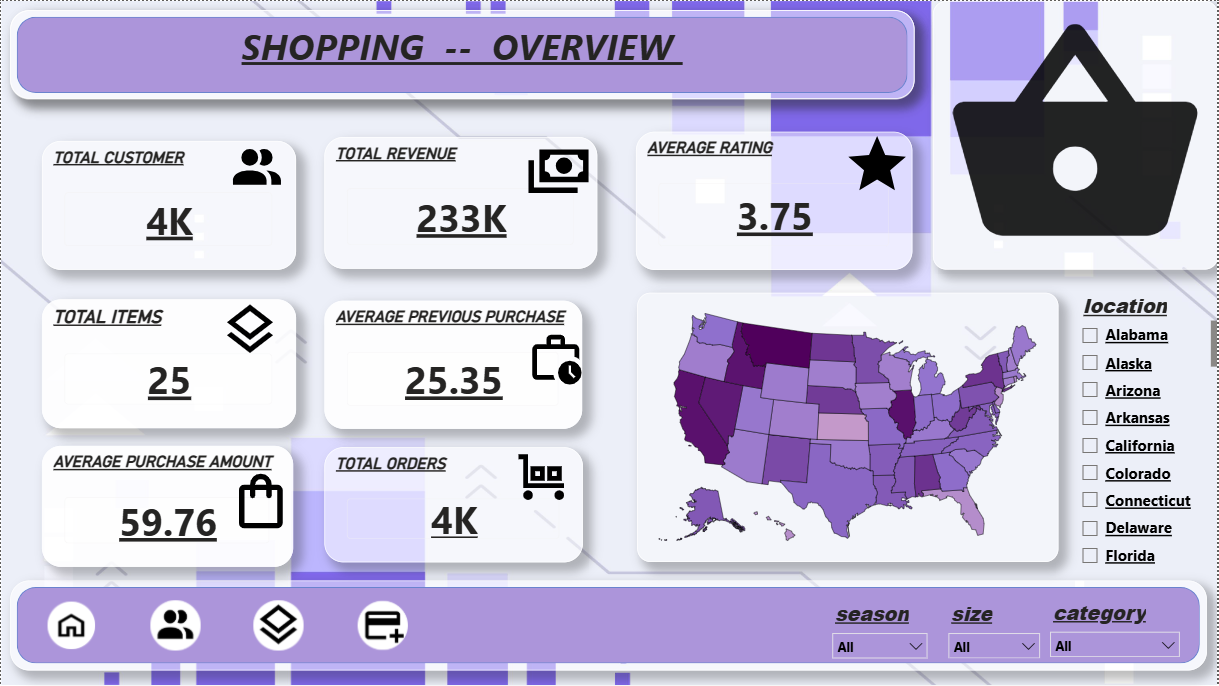

Layout of this report page (visuals, bound fields, positions):
{"tool":"powerbi","page":{"name":"HOME","canvas":[1280,720],"ordinal":0},"visuals":[{"type":"image","box":[0,0,1280,720],"z":0},{"type":"group","id":"g1","title":"Group 1","box":[42.7,146.8,267.1,135.6],"z":0,"group":"g12"},{"type":"group","id":"g2","title":"Group 5","box":[340,470,272.2,121.1],"z":0,"group":"g15"},{"type":"cardVisual","title":"TOTAL REVENUE","fields":{"Data":["Customer.Total Revenue"]},"box":[340,143,287.1,138.6],"z":1000,"group":"g11"},{"type":"image","box":[228.8,146.1,80.3,60.2],"z":1000,"group":"g12"},{"type":"cardVisual","title":"TOTAL ITEMS","fields":{"Data":["Customer.total items"]},"box":[42.9,314.3,267.1,135.7],"z":1000,"group":"g13"},{"type":"image","box":[524.5,469.3,88.8,60.5],"z":1000,"group":"g15"},{"type":"shape","box":[9.6,609.6,1258.9,94.5],"z":1000},{"type":"cardVisual","title":"AVERAGE RATING","fields":{"Data":["Customer.Average Rating"]},"box":[668.6,137,291.2,145.6],"z":2000,"group":"g10"},{"type":"cardVisual","title":"TOTAL CUSTOMER ","fields":{"Data":["Customer.Total customers"]},"box":[42.7,146.8,267.1,135.6],"z":2000,"group":"g1"},{"type":"cardVisual","title":"AVERAGE PURCHASE AMOUNT","fields":{"Data":["Customer.Average putrchase amount"]},"box":[43,468.5,264.6,127.3],"z":2000,"group":"g14"},{"type":"actionButton","title":"home_A","box":[19.5,632.5,108.6,50],"z":2000},{"type":"group","id":"g3","title":"Group 2","box":[42.7,146.1,267.1,136.3],"z":3000},{"type":"cardVisual","title":"AVERAGE PREVIOUS PURCHASE","fields":{"Data":["Customer.Average Previous Purchases"]},"box":[340.3,315.6,271.3,135.1],"z":3000,"group":"g9"},{"type":"cardVisual","title":"TOTAL ORDERS","fields":{"Data":["Customer.Total Transactions"]},"box":[340,470,272.2,121.1],"z":3000,"group":"g2"},{"type":"group","id":"g4","title":"Group 3","box":[668.6,135.7,291.4,147.1],"z":4000},{"type":"group","id":"g5","title":"Group 6","box":[340,469.3,273.3,125.3],"z":5000},{"type":"group","id":"g6","title":"Group 7","box":[42.9,314.3,267.1,135.7],"z":6000},{"type":"group","id":"g7","title":"Group 4","box":[340,143,285.7,138.6],"z":7000,"group":"g16"},{"type":"group","id":"g8","title":"Group 8","box":[43,468.5,265,127.3],"z":7000},{"type":"group","id":"g9","title":"Group 9","box":[340.3,315.6,272.7,135.1],"z":8000},{"type":"shape","box":[10,10,951.4,94.3],"z":9000},{"type":"textbox","box":[10,10,951.4,92.9],"z":10000},{"type":"image","title":"SHOPPING OVERVIEW","box":[980,0,300,282.9],"z":11000},{"type":"image","box":[214.3,314.3,95.7,64.3],"z":11001,"group":"g13"},{"type":"image","box":[239.1,492.5,68.8,68.8],"z":11003,"group":"g14"},{"type":"image","box":[553.8,341.9,59.2,69],"z":11005,"group":"g9"},{"type":"group","id":"g10","title":"Group 11","box":[668.6,135.7,291.2,146.9],"z":11007,"group":"g4"},{"type":"group","id":"g11","title":"Group 13","box":[340,143,285.7,138.6],"z":11007,"group":"g7"},{"type":"group","id":"g12","title":"Group 14","box":[42.7,146.1,267.1,136.3],"z":11007,"group":"g3"},{"type":"group","id":"g13","title":"Group 15","box":[42.9,314.3,267.1,135.7],"z":11007,"group":"g6"},{"type":"group","id":"g14","title":"Group 10","box":[43,468.5,265,127.3],"z":11007,"group":"g8"},{"type":"group","id":"g15","title":"Group 12","box":[340,469.3,273.3,125.3],"z":11007,"group":"g5"},{"type":"group","id":"g16","title":"Group 16","box":[340,139.2,289.8,142.4],"z":12000},{"type":"image","box":[885.6,135.7,74.3,72],"z":13000,"group":"g10"},{"type":"actionButton","title":"home_A","box":[128.6,629.9,108.6,52.9],"z":13000},{"type":"actionButton","title":"home_A","box":[237.7,629.9,108.6,52.9],"z":14000},{"type":"image","box":[543.3,139.2,86.6,69],"z":14001,"group":"g16"},{"type":"slicer","fields":{"Values":["Customer.size"]},"box":[992.2,624.7,106.7,66.7],"z":15000},{"type":"shapeMap","fields":{"Category":["Customer.location"],"Value":["Customer.Total Revenue"]},"box":[668.8,306.5,442.9,283.1],"z":16000},{"type":"slicer","fields":{"Values":["Customer.category"]},"box":[1098.7,623.4,146.8,66.5],"z":17000},{"type":"slicer","fields":{"Values":["Customer.location"]},"box":[1129.9,301.3,150.6,300],"z":18000},{"type":"slicer","fields":{"Values":["Customer.season"]},"box":[870.1,624.7,110.7,74.7],"z":19000},{"type":"actionButton","title":"home_A","box":[346.8,631.2,108.6,52.9],"z":20000}]}

Visuals, with their boxes in screenshot pixels (x1, y1, x2, y2), scaled from the page's 1280x720 canvas onto the 1219x686 screenshot:
image: {"left": 0, "top": 0, "right": 1218, "bottom": 685}
"Group 1" group: {"left": 41, "top": 140, "right": 295, "bottom": 269}
"Group 5" group: {"left": 324, "top": 448, "right": 583, "bottom": 563}
"TOTAL REVENUE" cardVisual: {"left": 324, "top": 136, "right": 597, "bottom": 268}
image: {"left": 218, "top": 139, "right": 294, "bottom": 197}
"TOTAL ITEMS" cardVisual: {"left": 41, "top": 299, "right": 295, "bottom": 429}
image: {"left": 500, "top": 447, "right": 584, "bottom": 505}
shape: {"left": 9, "top": 581, "right": 1208, "bottom": 671}
"AVERAGE RATING" cardVisual: {"left": 637, "top": 131, "right": 914, "bottom": 269}
"TOTAL CUSTOMER " cardVisual: {"left": 41, "top": 140, "right": 295, "bottom": 269}
"AVERAGE PURCHASE AMOUNT" cardVisual: {"left": 41, "top": 446, "right": 293, "bottom": 568}
"home_A" actionButton: {"left": 19, "top": 603, "right": 122, "bottom": 650}
"Group 2" group: {"left": 41, "top": 139, "right": 295, "bottom": 269}
"AVERAGE PREVIOUS PURCHASE" cardVisual: {"left": 324, "top": 301, "right": 582, "bottom": 429}
"TOTAL ORDERS" cardVisual: {"left": 324, "top": 448, "right": 583, "bottom": 563}
"Group 3" group: {"left": 637, "top": 129, "right": 914, "bottom": 269}
"Group 6" group: {"left": 324, "top": 447, "right": 584, "bottom": 567}
"Group 7" group: {"left": 41, "top": 299, "right": 295, "bottom": 429}
"Group 4" group: {"left": 324, "top": 136, "right": 596, "bottom": 268}
"Group 8" group: {"left": 41, "top": 446, "right": 293, "bottom": 568}
"Group 9" group: {"left": 324, "top": 301, "right": 584, "bottom": 429}
shape: {"left": 10, "top": 10, "right": 916, "bottom": 99}
textbox: {"left": 10, "top": 10, "right": 916, "bottom": 98}
"SHOPPING OVERVIEW" image: {"left": 933, "top": 0, "right": 1218, "bottom": 270}
image: {"left": 204, "top": 299, "right": 295, "bottom": 361}
image: {"left": 228, "top": 469, "right": 293, "bottom": 535}
image: {"left": 527, "top": 326, "right": 584, "bottom": 391}
"Group 11" group: {"left": 637, "top": 129, "right": 914, "bottom": 269}
"Group 13" group: {"left": 324, "top": 136, "right": 596, "bottom": 268}
"Group 14" group: {"left": 41, "top": 139, "right": 295, "bottom": 269}
"Group 15" group: {"left": 41, "top": 299, "right": 295, "bottom": 429}
"Group 10" group: {"left": 41, "top": 446, "right": 293, "bottom": 568}
"Group 12" group: {"left": 324, "top": 447, "right": 584, "bottom": 567}
"Group 16" group: {"left": 324, "top": 133, "right": 600, "bottom": 268}
image: {"left": 843, "top": 129, "right": 914, "bottom": 198}
"home_A" actionButton: {"left": 122, "top": 600, "right": 226, "bottom": 651}
"home_A" actionButton: {"left": 226, "top": 600, "right": 330, "bottom": 651}
image: {"left": 517, "top": 133, "right": 600, "bottom": 198}
slicer - Customer.size: {"left": 945, "top": 595, "right": 1047, "bottom": 659}
shapeMap - Customer.location x Customer.Total Revenue: {"left": 637, "top": 292, "right": 1059, "bottom": 562}
slicer - Customer.category: {"left": 1046, "top": 594, "right": 1186, "bottom": 657}
slicer - Customer.location: {"left": 1076, "top": 287, "right": 1218, "bottom": 573}
slicer - Customer.season: {"left": 829, "top": 595, "right": 934, "bottom": 666}
"home_A" actionButton: {"left": 330, "top": 601, "right": 434, "bottom": 652}
